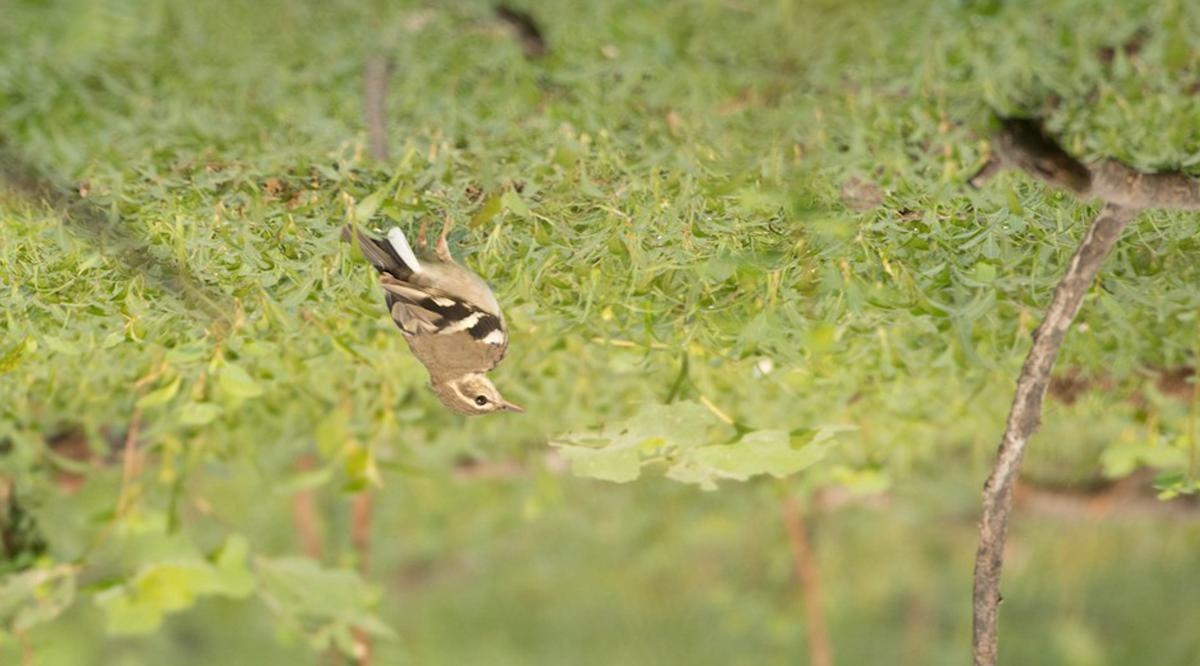wagtail: (334, 173, 566, 437)
